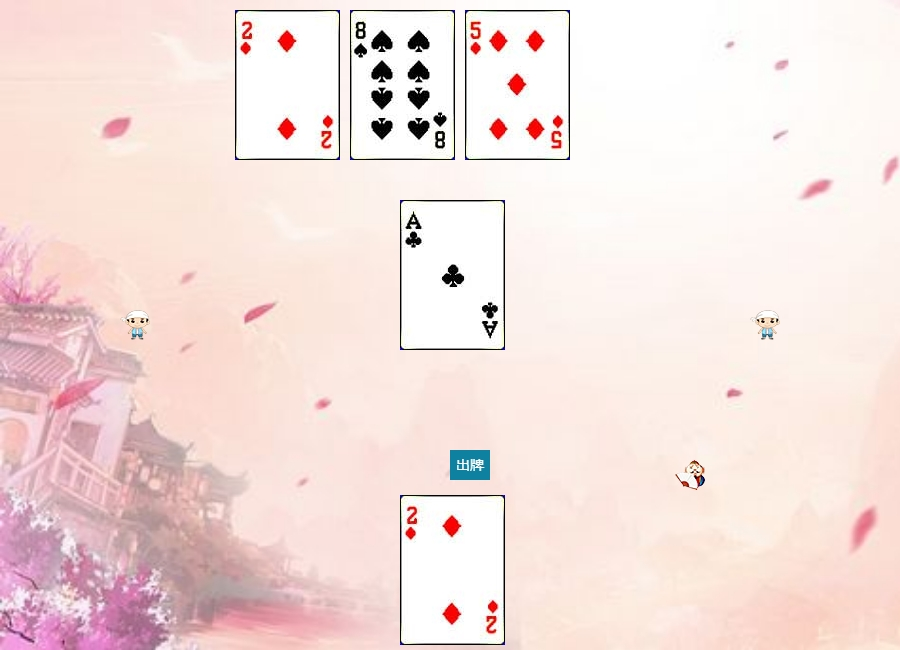14~2: (400, 200, 505, 350)
15~1: (235, 10, 340, 160), (400, 495, 505, 645)
5~1: (465, 10, 570, 160)
8~4: (350, 10, 455, 160)
